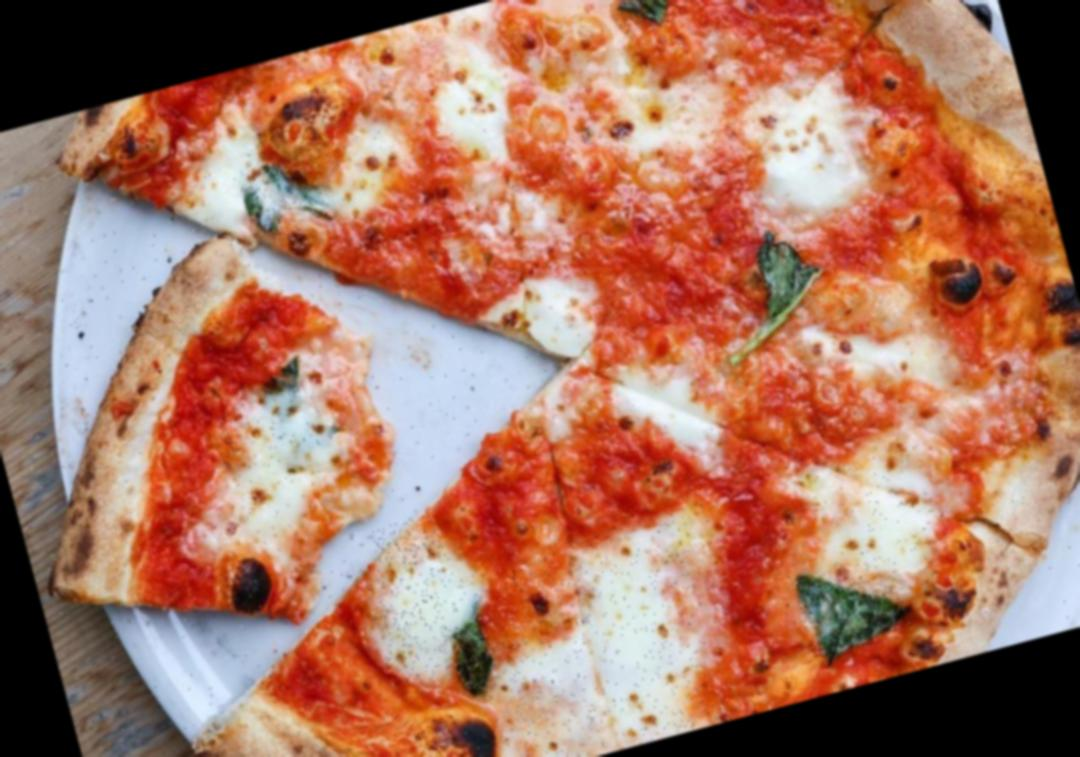Basil: (792, 552, 914, 657), (237, 151, 333, 238), (753, 233, 826, 320), (445, 611, 500, 694), (609, 0, 686, 35)
Cheese: (454, 519, 734, 757), (350, 511, 477, 686), (806, 443, 952, 594), (749, 80, 870, 220), (215, 402, 338, 537)
Pizza: (0, 0, 1080, 757)
